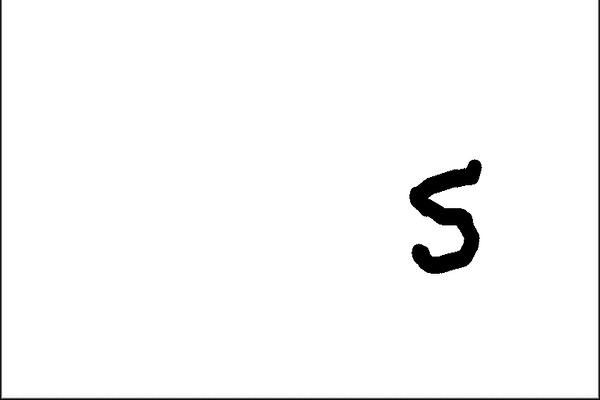S: (402, 155, 491, 279)
